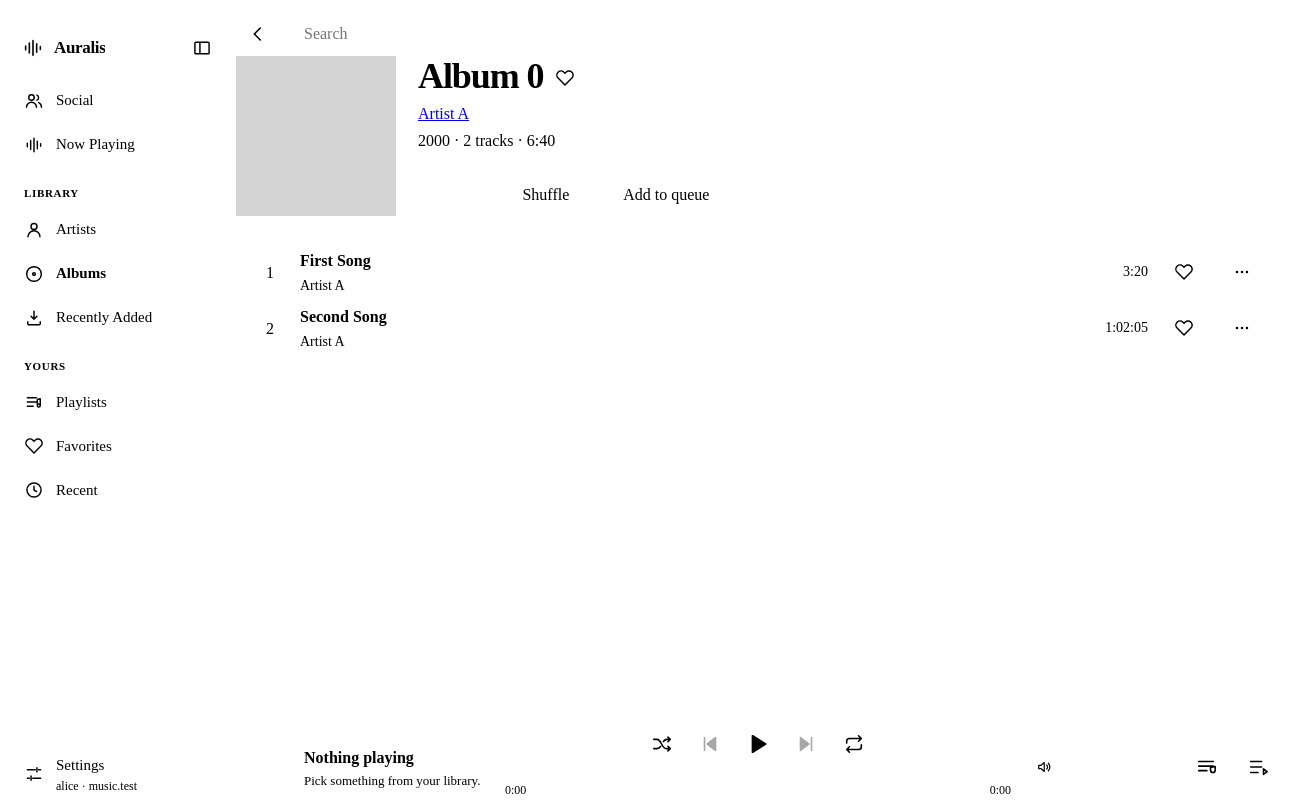
Test: player bar › plays a track from an album, shows it, and keeps playing across route changes
The image size is (1292, 812).
Click the button with aria-label "Play Second Song". click: [343, 316]
box: [252,300,1091,356]
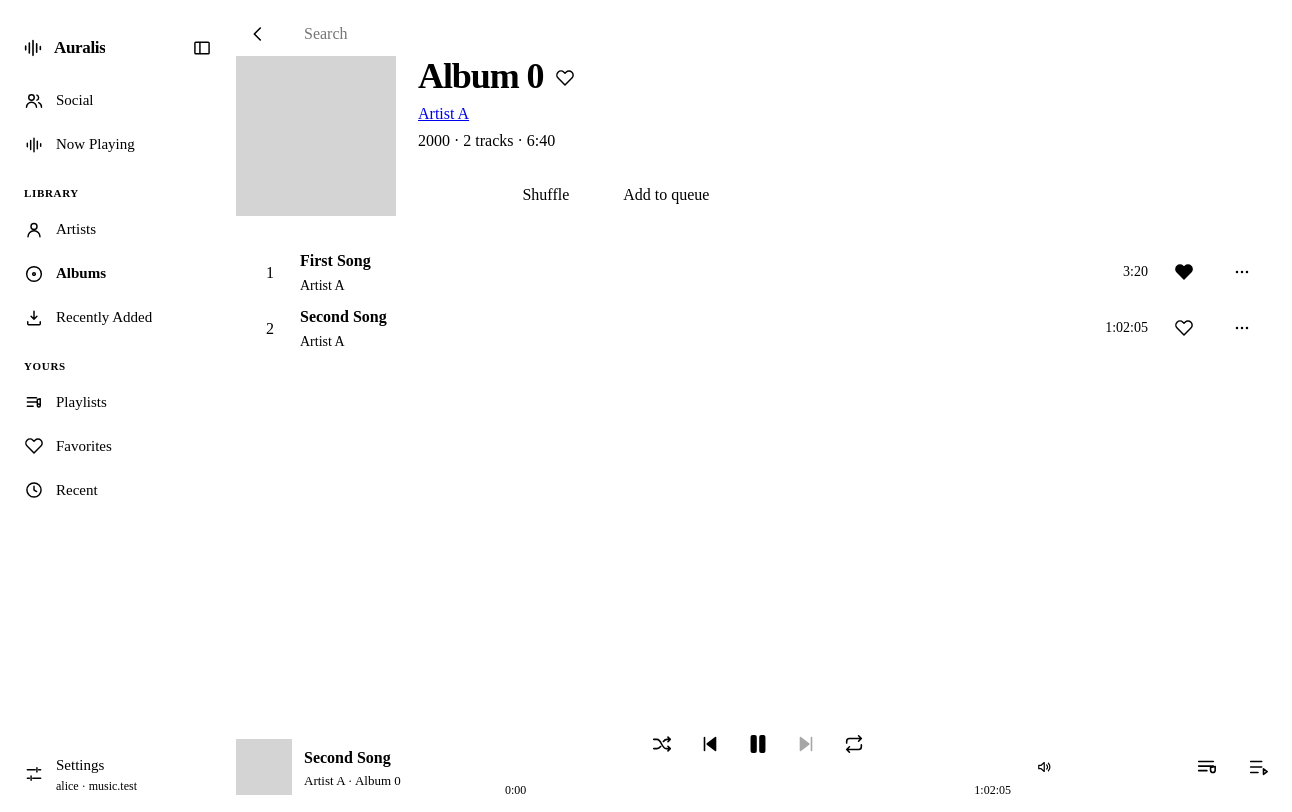
Result: the 2nd text "Second Song" is shown at [304,744,401,772]
Result: the button named "Pause" is shown at [736,722,780,766]
Click the link "Artists". click: [60, 230]
box: [24,220,96,240]
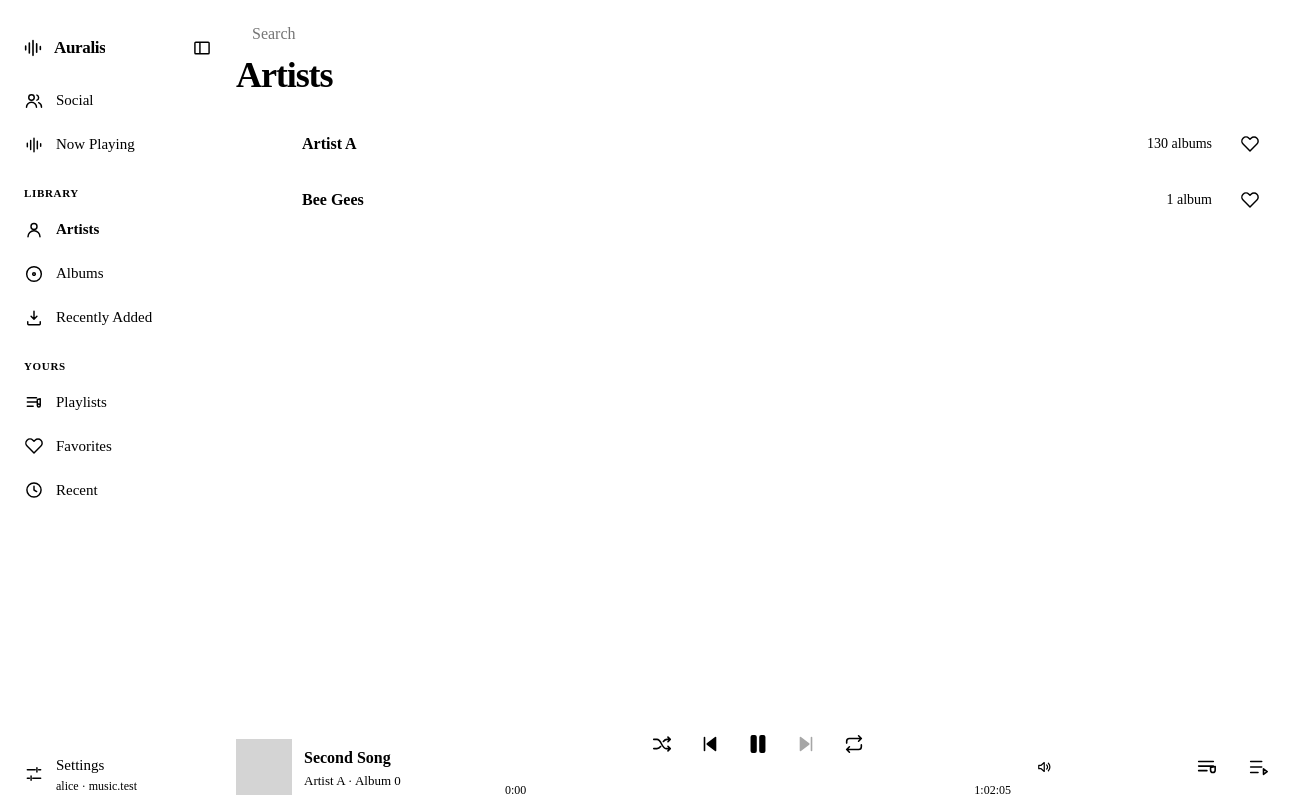
Result: the link "Bee Gees 1 album" is shown at [302,191,1212,208]
Click the link "Settings alice · music.test". click: [80, 775]
box: [24,758,137,793]
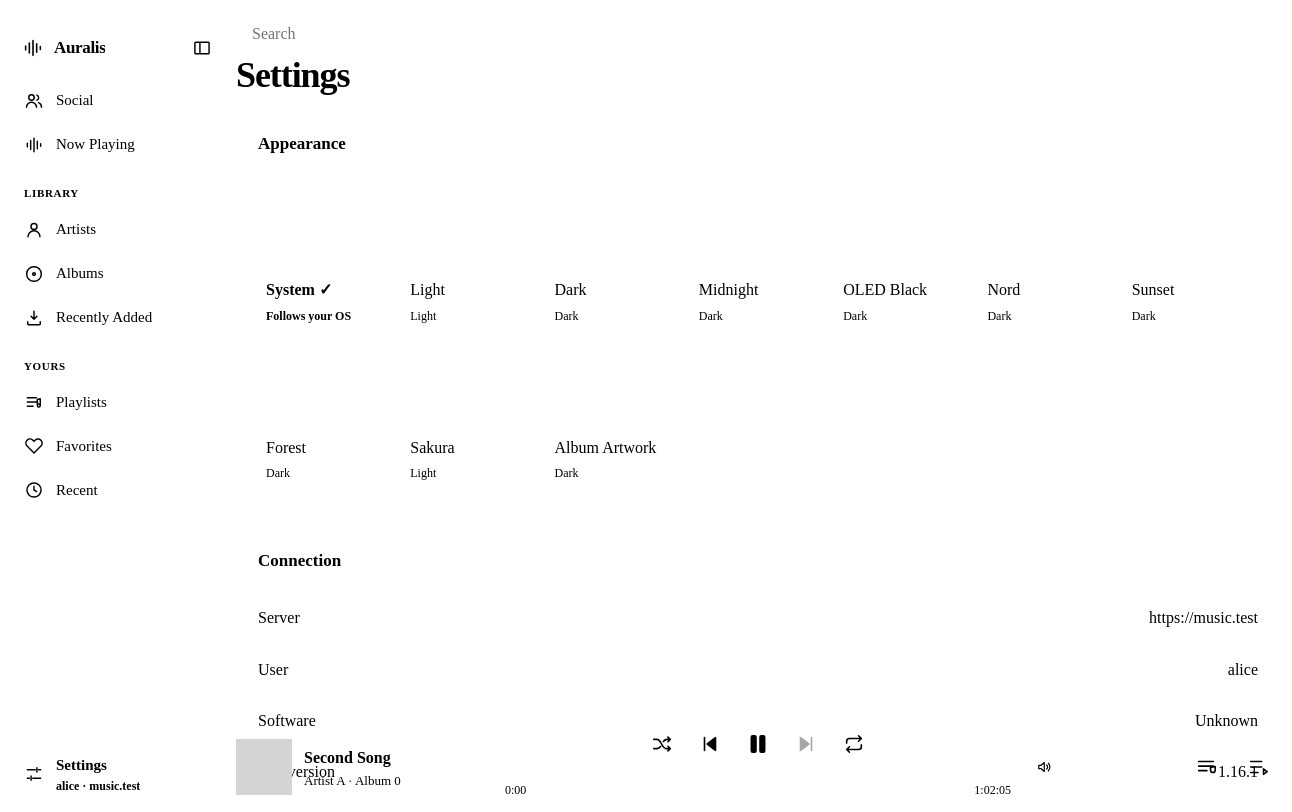
Result: the text "Second Song" is shown at [304,744,401,772]
Result: the heading "Settings" is shown at [236,56,349,96]
